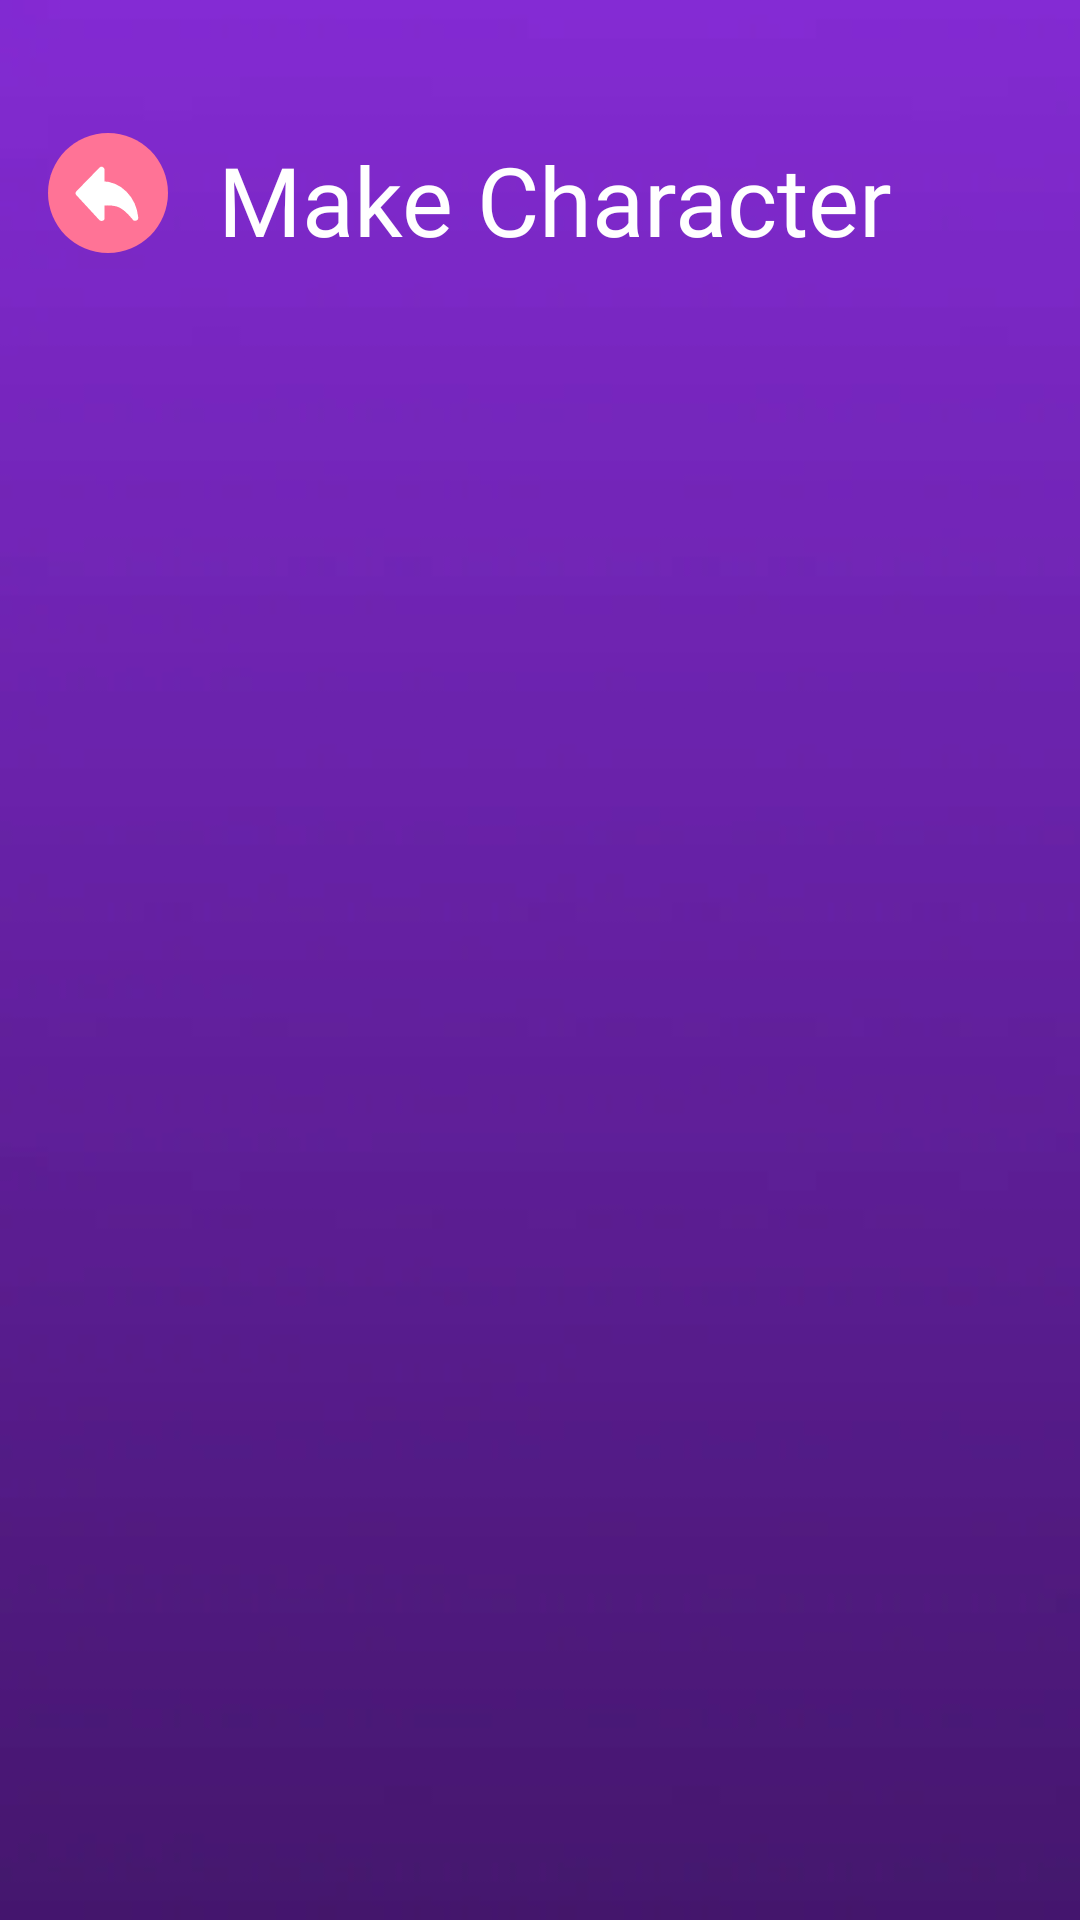

Where to tap for icons on this 1080×1920 app screen, as (x=x, y=y):
back: (x=108, y=193)
